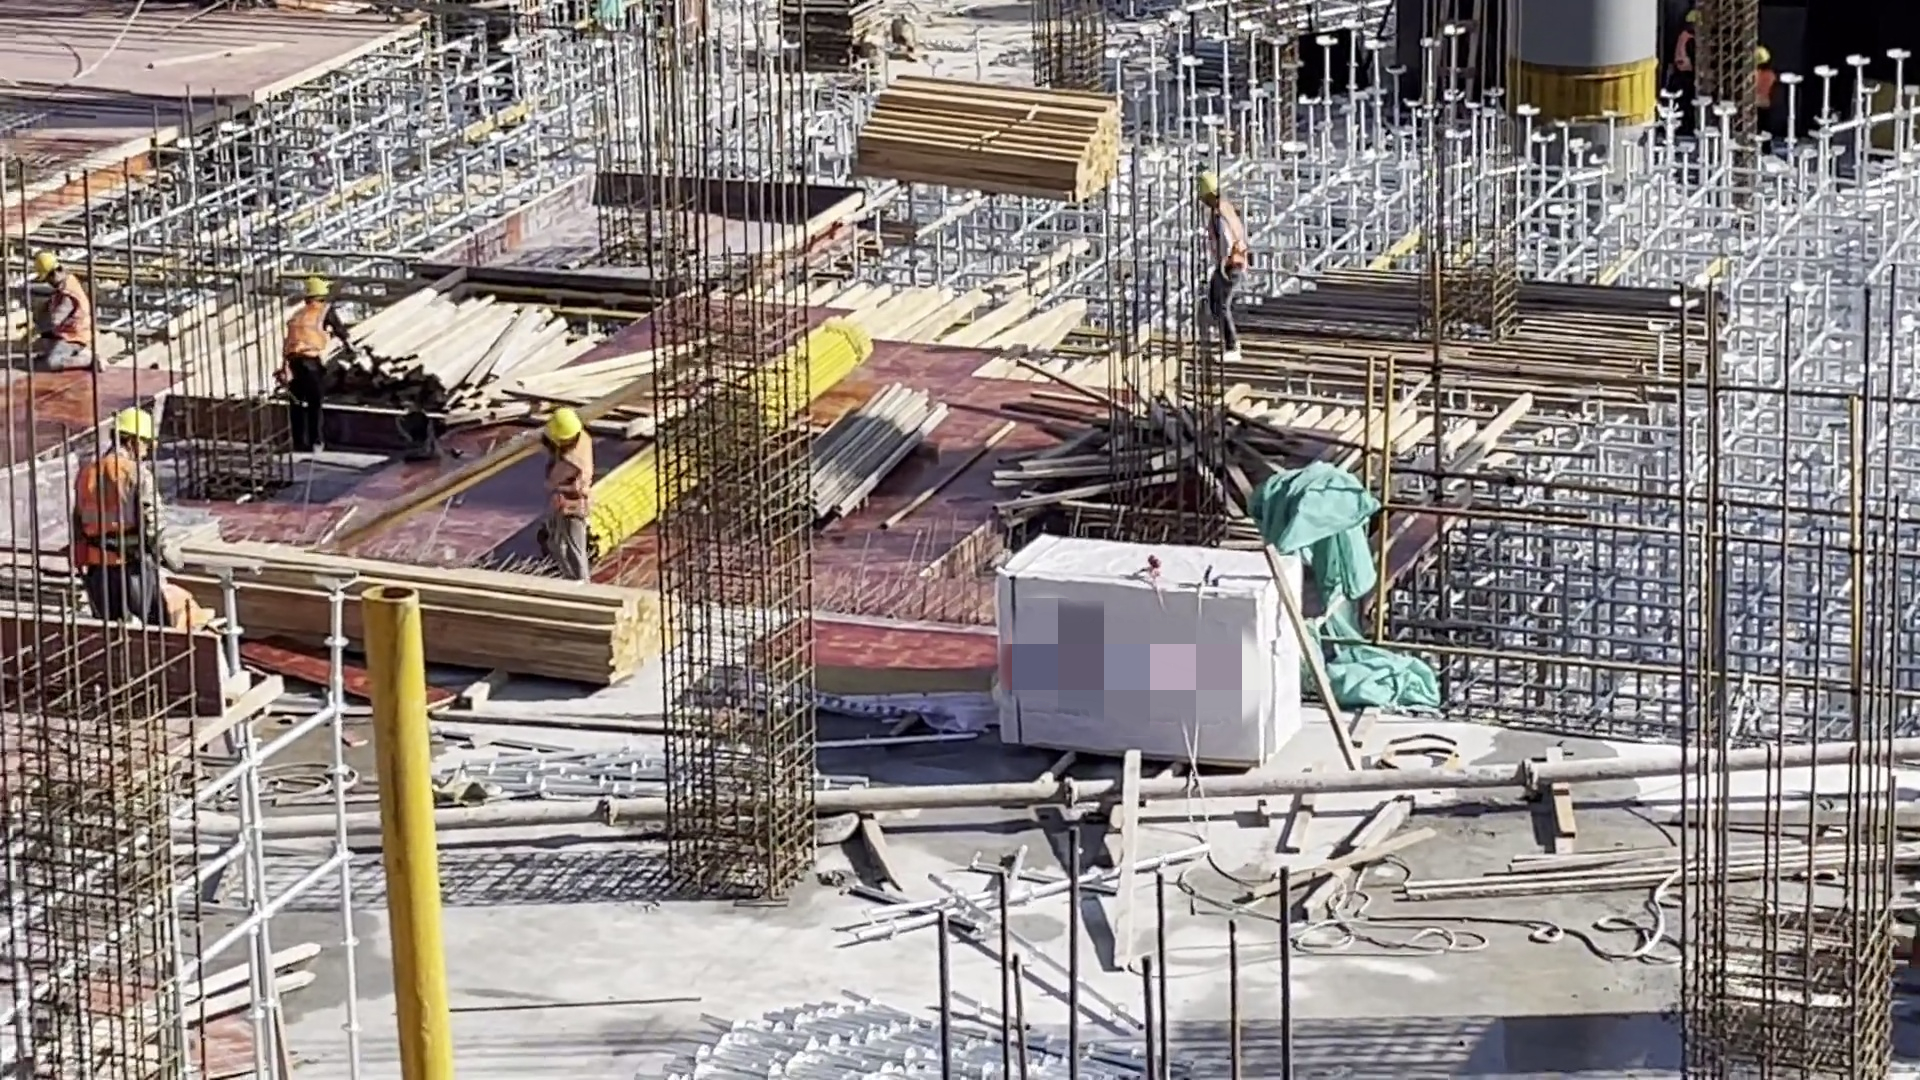board: (768, 617, 959, 739), (781, 1, 844, 69)
helmet: (1196, 161, 1233, 209), (539, 406, 586, 437), (299, 271, 336, 309), (1736, 34, 1776, 61), (136, 419, 164, 456), (48, 244, 74, 277), (1673, 9, 1703, 31)
person: (87, 401, 184, 628), (532, 396, 624, 596), (24, 248, 121, 388), (1196, 160, 1256, 351), (274, 270, 342, 438), (1664, 11, 1704, 110), (1742, 38, 1766, 143)
vest: (96, 462, 178, 572), (51, 281, 103, 374), (273, 306, 324, 367), (1223, 186, 1249, 279), (541, 457, 593, 504), (1759, 69, 1786, 109), (1664, 37, 1691, 69)
wood: (134, 561, 656, 689), (899, 61, 1156, 224), (361, 297, 549, 434)
